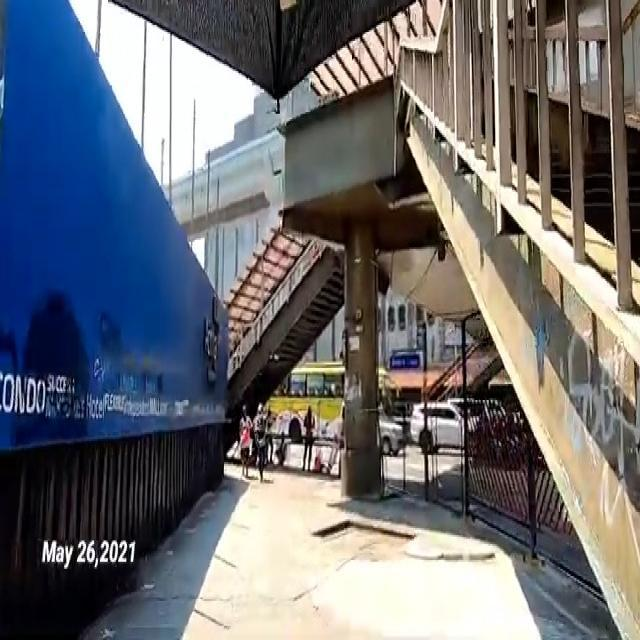bus: (256, 364, 392, 444)
